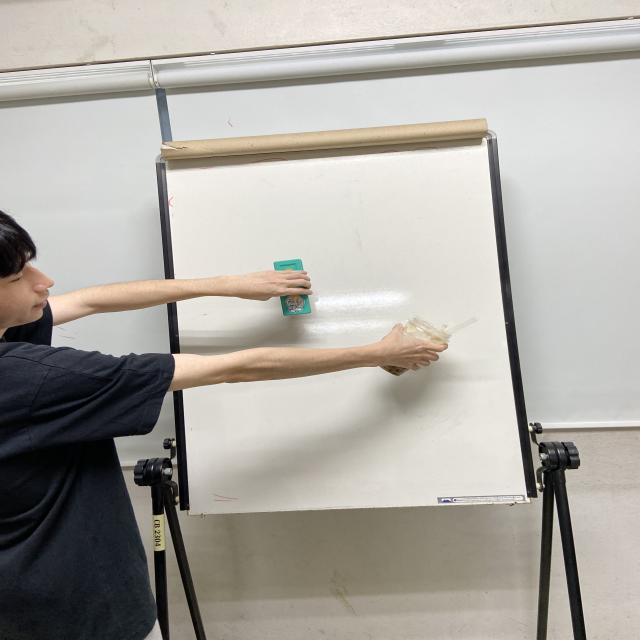cup: (378, 316, 451, 376)
